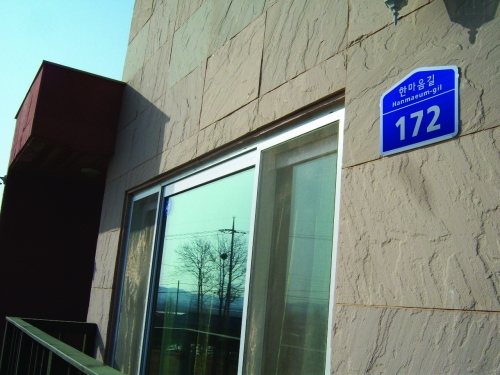building_license_plate1: (380, 65, 460, 157)
